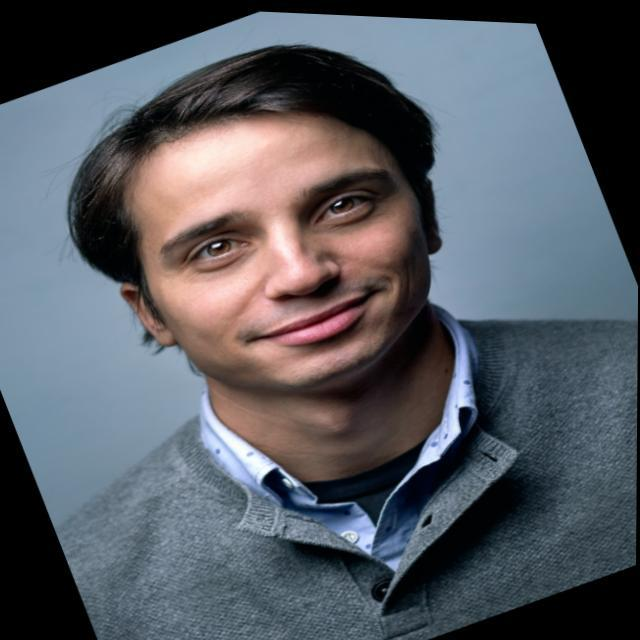Nonhelmet: (63, 40, 447, 395)
